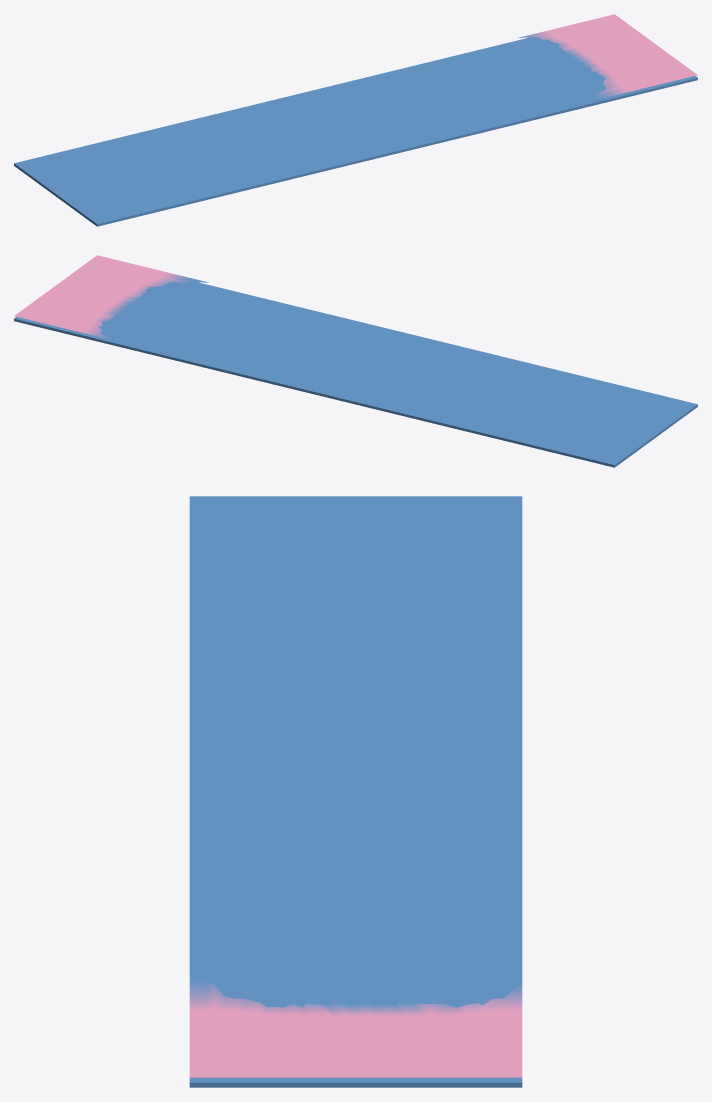
File: Dry_cobalt_chloride_paper.fbx
The picture shows the model from 3 angles, top to bottom: view 1: azimuth 30°, elevation 25°; view 2: azimuth 150°, elevation 25°; view 3: azimuth 270°, elevation 25°; orthographic projection. The views are drawn at different scales.
Parts seen in each view (by area): view 1: Cube, 平面, 平面.001; view 2: Cube, 平面, 平面.001; view 3: Cube, 平面, 平面.001.
Part boxes in pixels (<box>): Cube: <box>14,37,697,226</box>; 平面: <box>555,14,697,89</box>; 平面.001: <box>518,29,637,102</box>; Cube: <box>14,282,697,467</box>; 平面: <box>14,255,156,330</box>; 平面.001: <box>74,270,208,339</box>; Cube: <box>189,496,522,1087</box>; 平面: <box>189,1019,522,1077</box>; 平面.001: <box>189,968,522,1019</box>.
Size of the model in its own units: 25 by 0.2 by 6.
Materials: 2 (2 with a texture image).
